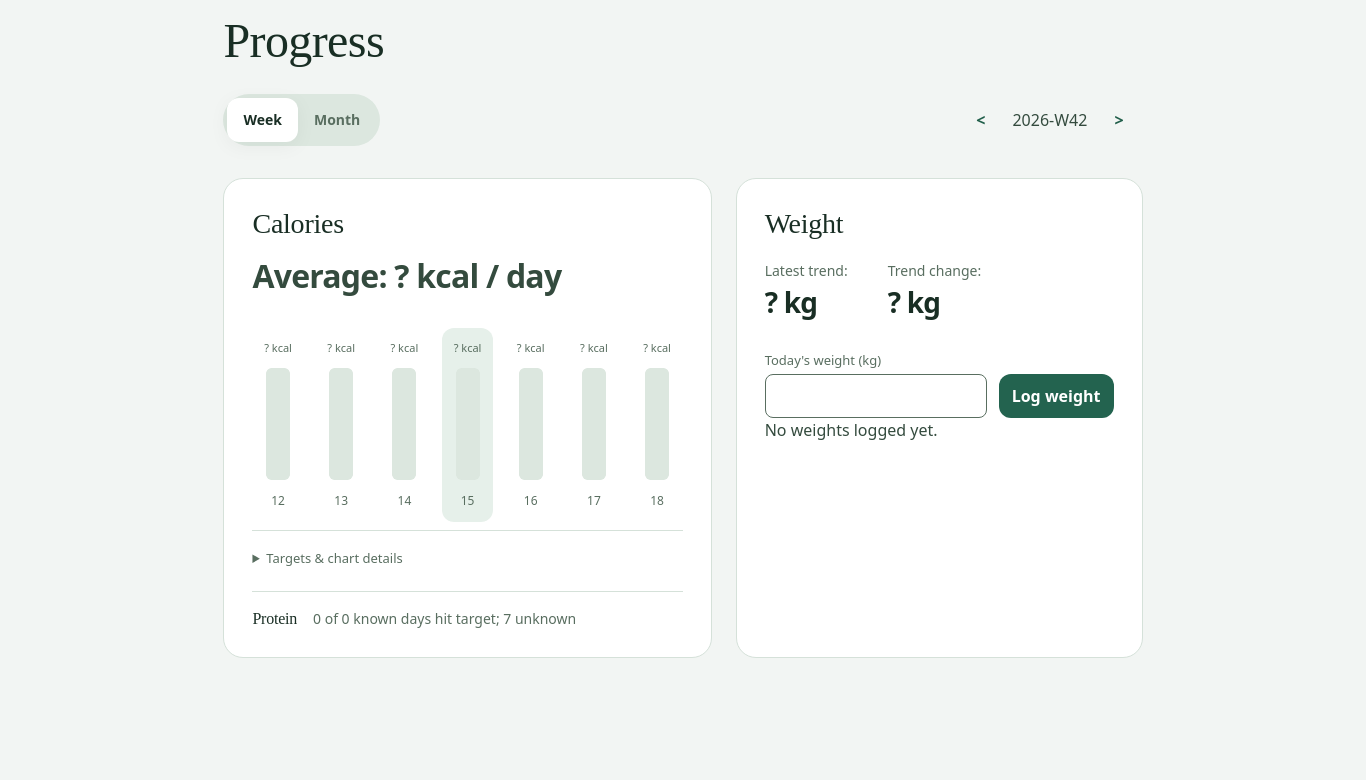
Test case: keeps daily targets available behind chart details instead of crowding each bar
Expected: the text "2100 kcal" is not shown
Click the heading "Targets & chart details": {"x": 334, "y": 558} x1=266 y1=549 x2=403 y2=567
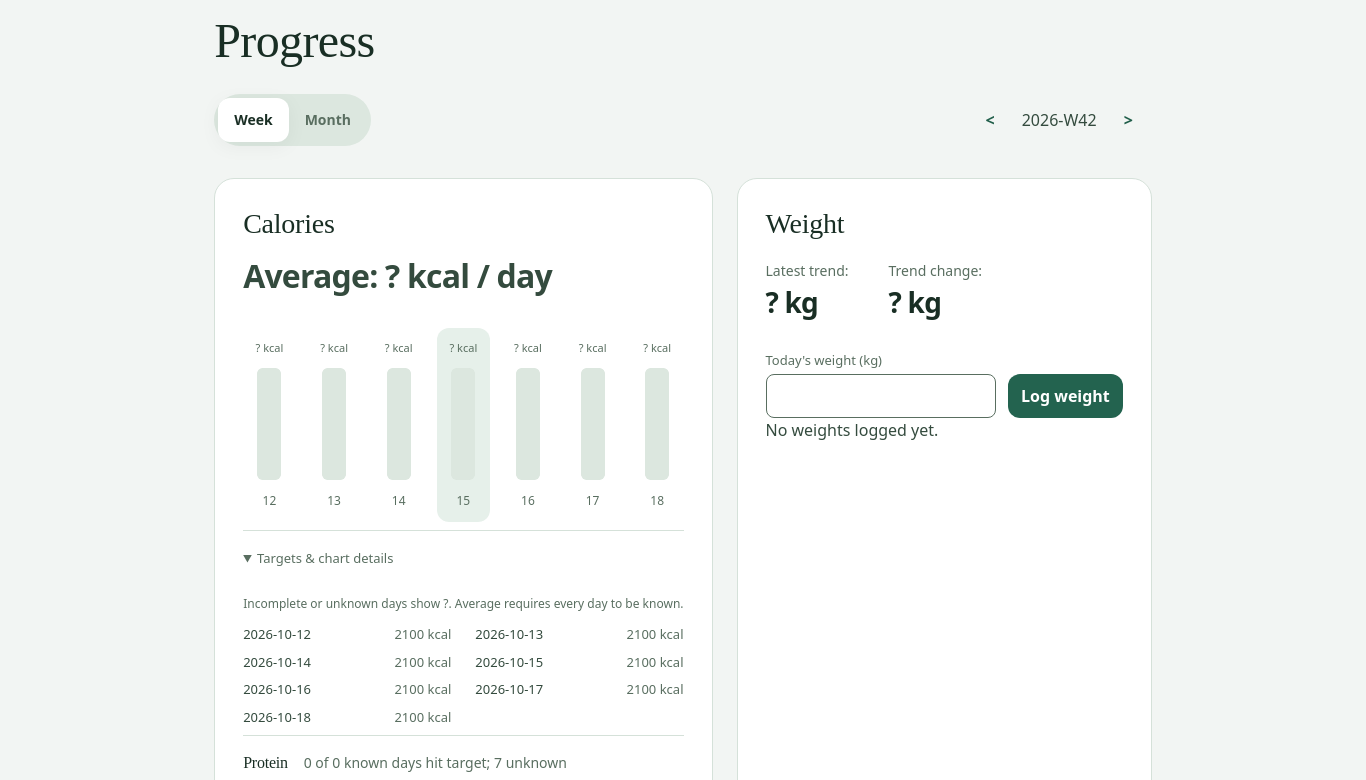
Expected: the text "2100 kcal" next to "2026-10-12" is shown, x1=394 y1=625 x2=451 y2=645
